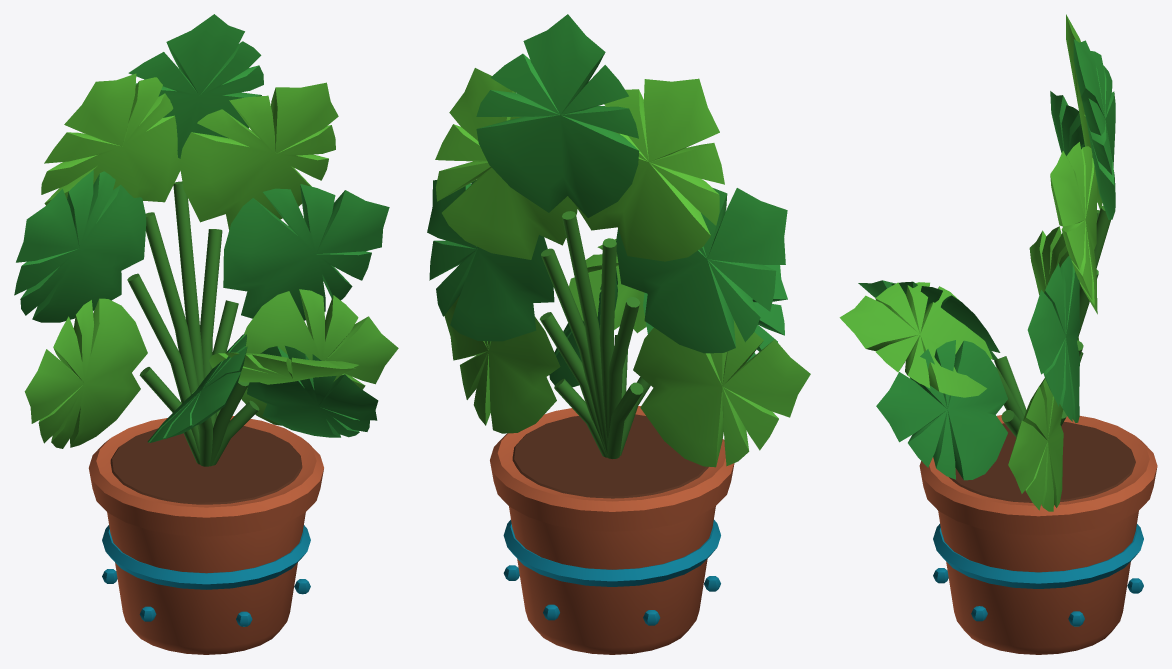
Rendered from plant_big.glb.
The picture shows the model from 3 angles, left to right: view 1: azimuth 30°, elevation 25°; view 2: azimuth 150°, elevation 25°; view 3: azimuth 270°, elevation 25°; orthographic projection. The views are drawn at different scales.
Parts seen in each view (by area): view 1: plant_big; view 2: plant_big; view 3: plant_big.
Part boxes in pixels (x1,y1,x2,y2): plant_big: (14,14,398,654); plant_big: (427,14,810,654); plant_big: (839,14,1157,654).
Bounding box in the file's own units: 1.11 × 1.71 × 0.8287.
